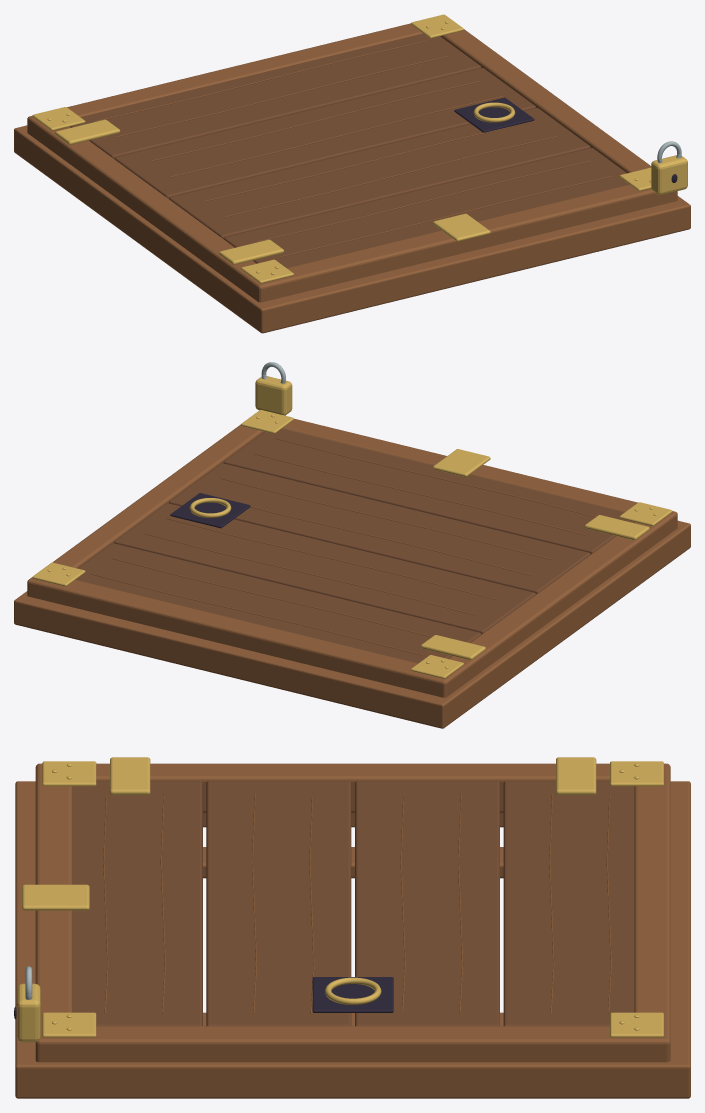
Rendered from cellar_hatch_closed.glb.
The picture shows the model from 3 angles, top to bottom: view 1: azimuth 30°, elevation 25°; view 2: azimuth 150°, elevation 25°; view 3: azimuth 270°, elevation 25°; orthographic projection. The views are drawn at different scales.
Visible parts, largest first — view 1: Walnut_lid_plank.002, Walnut_lid_plank.001, Walnut_lid_plank, Walnut_lid_plank.003, Fixed_frame_end.001, Lid_end_rail.001, Lid_side_stile, Fixed_frame_side, Lid_side_stile.001, Lid_end_rail, Flush_ring_recess, Padlock_body (+15 smaller); view 2: Walnut_lid_plank.001, Walnut_lid_plank.002, Walnut_lid_plank.003, Walnut_lid_plank, Fixed_frame_end, Lid_end_rail, Lid_side_stile, Fixed_frame_side, Lid_side_stile.001, Lid_end_rail.001, Flush_ring_recess, Padlock_body (+7 smaller); view 3: Walnut_lid_plank.002, Walnut_lid_plank.001, Walnut_lid_plank, Walnut_lid_plank.003, Fixed_frame_side.001, Lid_side_stile.001, Lid_end_rail, Lid_side_stile, Lid_end_rail.001, Fixed_frame_end, Fixed_frame_end.001, Flush_ring_recess (+9 smaller).
Boxes of the visible parts, box(x1,y1,x2,y2) form: Walnut_lid_plank.002: box(169, 108, 590, 238); Walnut_lid_plank.001: box(114, 68, 535, 198); Walnut_lid_plank: box(70, 33, 481, 158); Walnut_lid_plank.003: box(223, 148, 629, 267); Fixed_frame_end.001: box(250, 197, 690, 333); Lid_end_rail.001: box(271, 184, 664, 299); Lid_side_stile: box(27, 116, 280, 302); Fixed_frame_side: box(15, 126, 281, 332); Lid_side_stile.001: box(440, 29, 677, 203); Lid_end_rail: box(67, 23, 422, 116); Flush_ring_recess: box(454, 97, 534, 132); Padlock_body: box(651, 155, 687, 195); Walnut_lid_plank.001: box(114, 503, 535, 634); Walnut_lid_plank.002: box(169, 463, 590, 594); Walnut_lid_plank.003: box(223, 429, 634, 553); Walnut_lid_plank: box(76, 543, 481, 663); Fixed_frame_end: box(14, 592, 454, 728); Lid_end_rail: box(40, 580, 433, 694); Lid_side_stile: box(424, 511, 677, 697); Fixed_frame_side: box(423, 521, 690, 727); Lid_side_stile.001: box(27, 424, 264, 600); Lid_end_rail.001: box(282, 418, 637, 512); Flush_ring_recess: box(170, 493, 250, 528); Padlock_body: box(255, 376, 292, 415); Walnut_lid_plank.002: box(206, 781, 351, 1026); Walnut_lid_plank.001: box(355, 781, 499, 1026); Walnut_lid_plank: box(503, 781, 634, 1026); Walnut_lid_plank.003: box(72, 781, 202, 1026); Fixed_frame_side.001: box(15, 1052, 690, 1098); Lid_side_stile.001: box(35, 1026, 670, 1062); Lid_end_rail: box(634, 771, 670, 1032); Lid_side_stile: box(35, 763, 670, 813); Lid_end_rail.001: box(35, 771, 71, 1030); Fixed_frame_end: box(660, 781, 690, 1098); Fixed_frame_end.001: box(15, 781, 46, 1098); Flush_ring_recess: box(312, 977, 393, 1012).
Size of the model in its own units: 1 by 0.1965 by 1.
